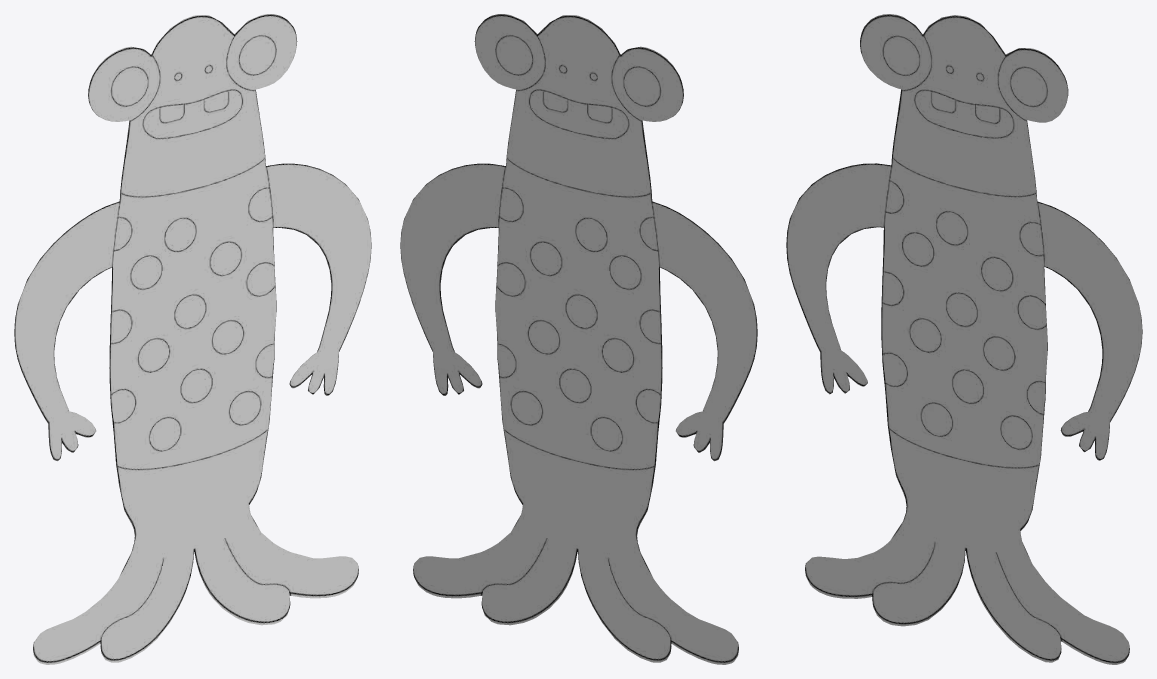
The model's file is 31_turi-01_fix.fbx.
3 renders of one model, left to right at view 1: azimuth 30°, elevation 25°; view 2: azimuth 150°, elevation 25°; view 3: azimuth 330°, elevation 25°, orthographic.
Parts seen in each view (by area): view 1: planarTrimmedSurface8; view 2: planarTrimmedSurface8; view 3: planarTrimmedSurface8.
Part boxes in pixels (<box>): planarTrimmedSurface8: <box>14,14,371,664</box>; planarTrimmedSurface8: <box>400,14,757,664</box>; planarTrimmedSurface8: <box>786,14,1142,664</box>.
Bounding box in the file's own units: 11.06 × 18.58 × 3.03e-06.
Materials: 1 (1 with a texture image).
